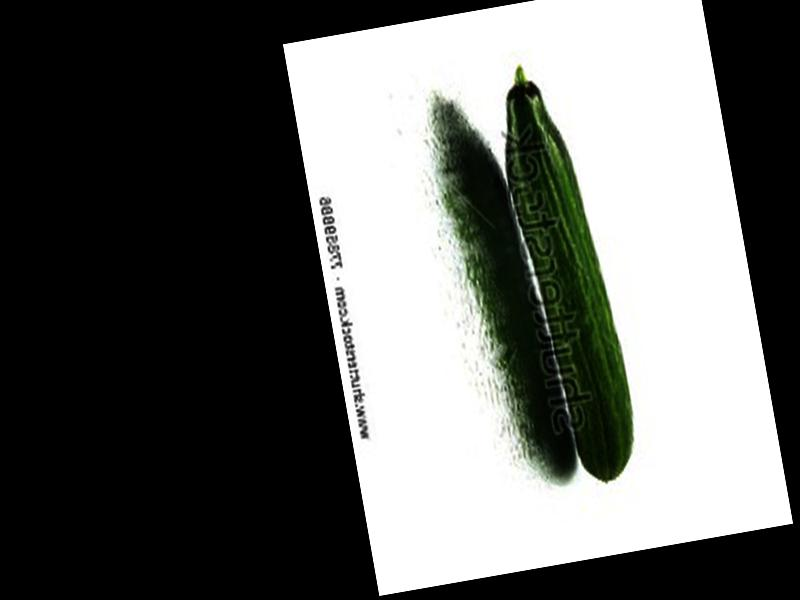Cucumber: (488, 58, 644, 486)
